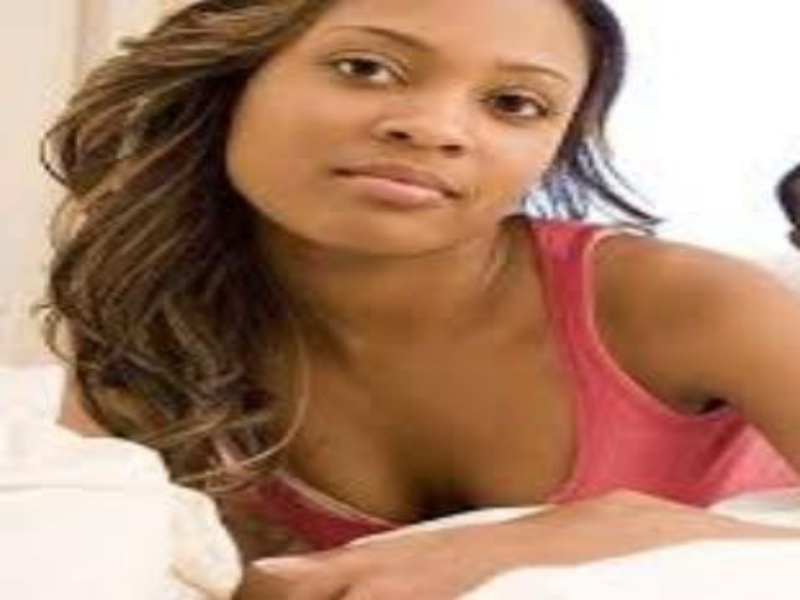TsisyArotava: (219, 1, 648, 332)
